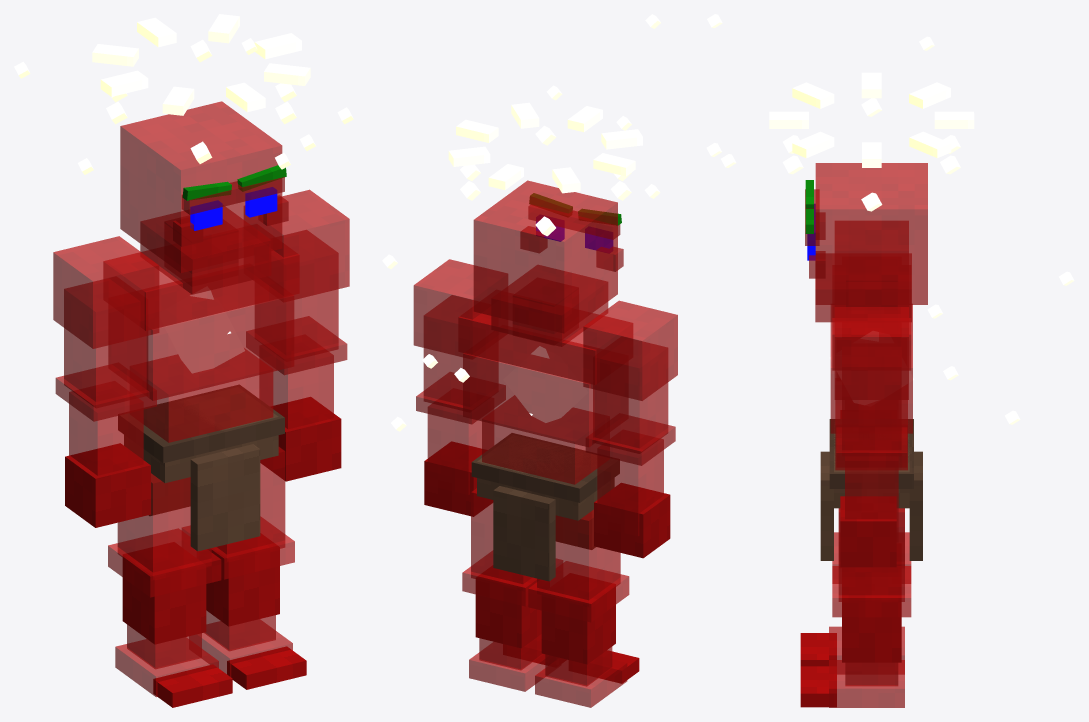
File: spirit_s4_evo1.glb
3 renders of one model, left to right at view 1: azimuth 30°, elevation 25°; view 2: azimuth 150°, elevation 25°; view 3: azimuth 270°, elevation 25°, orthographic. The views are drawn at different scales.
Parts seen in each view (by area): view 1: Torso, Head, ArmR, ArmL, LegR, LegL; view 2: Torso, Head, ArmR, ArmL, LegR, LegL; view 3: Head, ArmL, Torso, LegL, LegR, ArmR.
Boxes of the visible parts, x1=… form: Torso: x1=14, y1=38, x2=353, y2=551; Head: x1=92, y1=14, x2=310, y2=294; ArmR: x1=53, y1=236, x2=159, y2=527; ArmL: x1=244, y1=189, x2=349, y2=481; LegR: x1=108, y1=473, x2=232, y2=707; LegL: x1=182, y1=447, x2=306, y2=689; Torso: x1=382, y1=14, x2=660, y2=581; Head: x1=448, y1=102, x2=642, y2=346; ArmR: x1=583, y1=300, x2=677, y2=558; ArmL: x1=413, y1=259, x2=507, y2=516; LegR: x1=528, y1=509, x2=639, y2=707; LegL: x1=462, y1=488, x2=562, y2=691; Head: x1=769, y1=72, x2=974, y2=322; ArmL: x1=834, y1=307, x2=908, y2=567; Torso: x1=706, y1=14, x2=1074, y2=560; LegL: x1=800, y1=508, x2=911, y2=707; LegR: x1=800, y1=509, x2=911, y2=673; ArmR: x1=835, y1=221, x2=908, y2=252.
Bounding box in the file's own units: 0.985 × 2.16 × 1.12.
19 materials, 19 textured.
